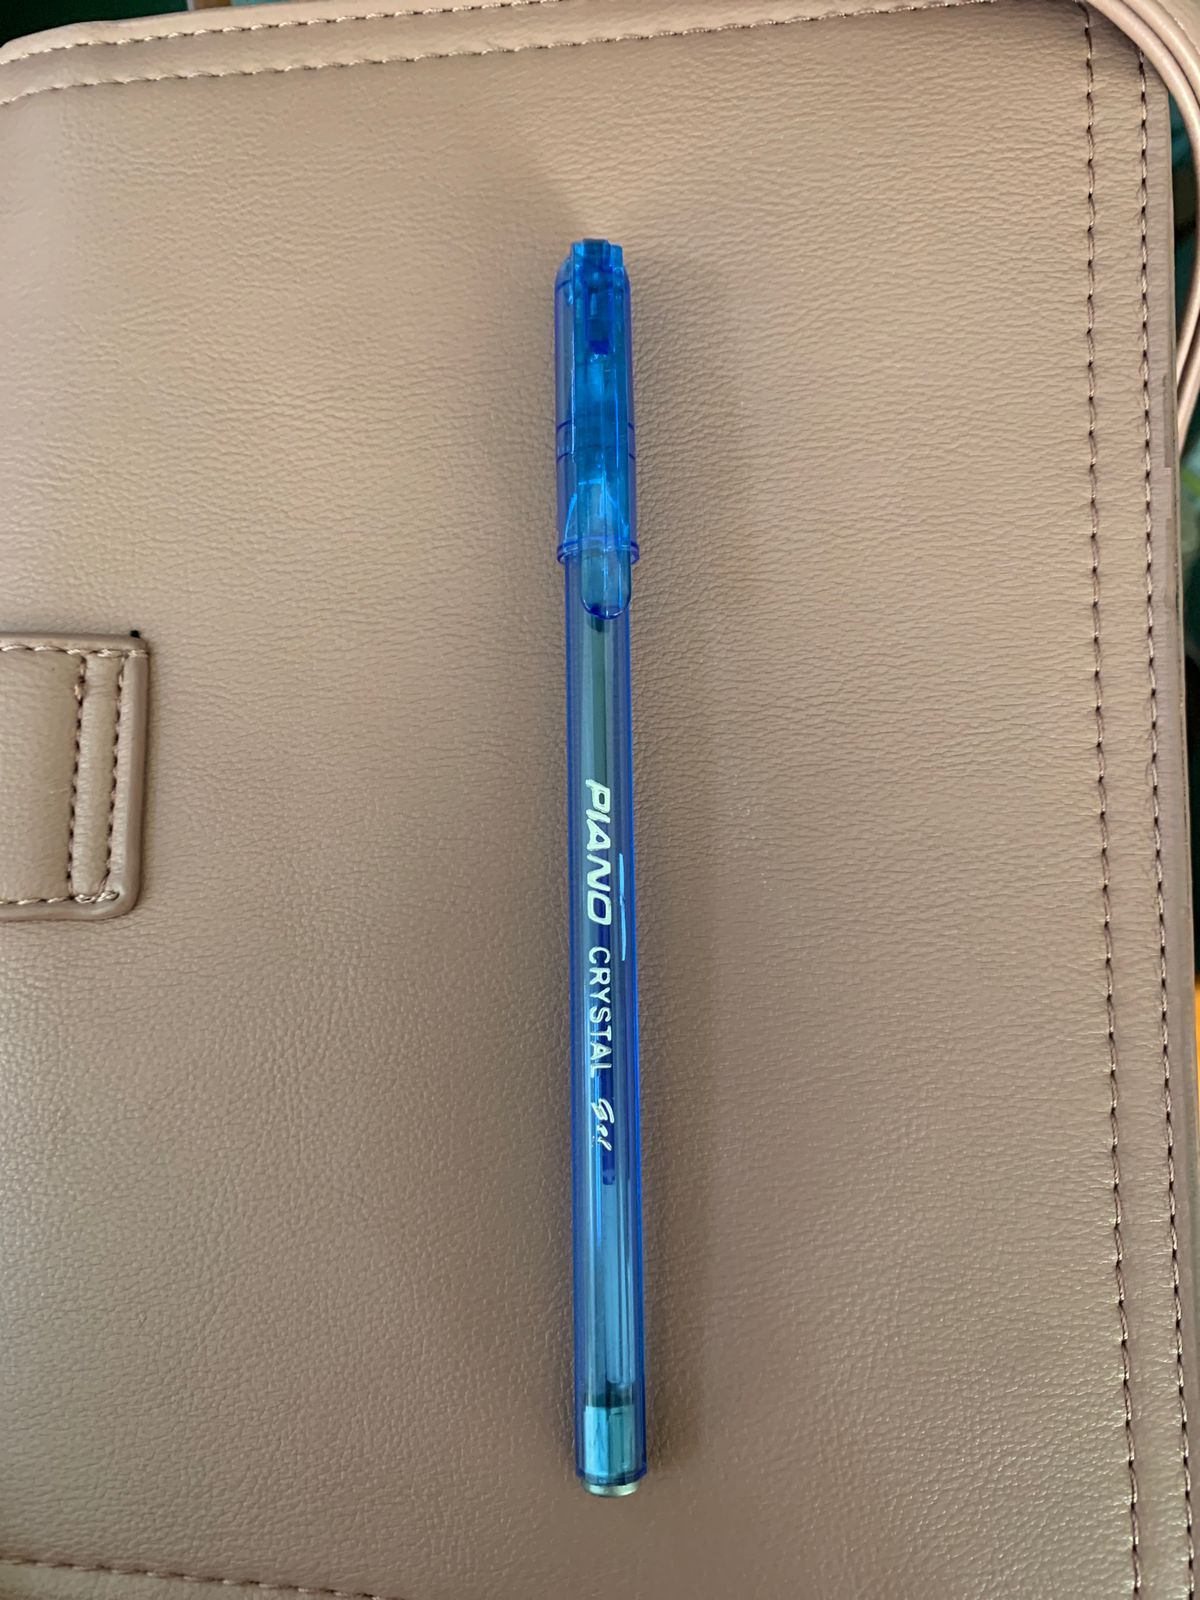pen: (388, 144, 925, 1579)
